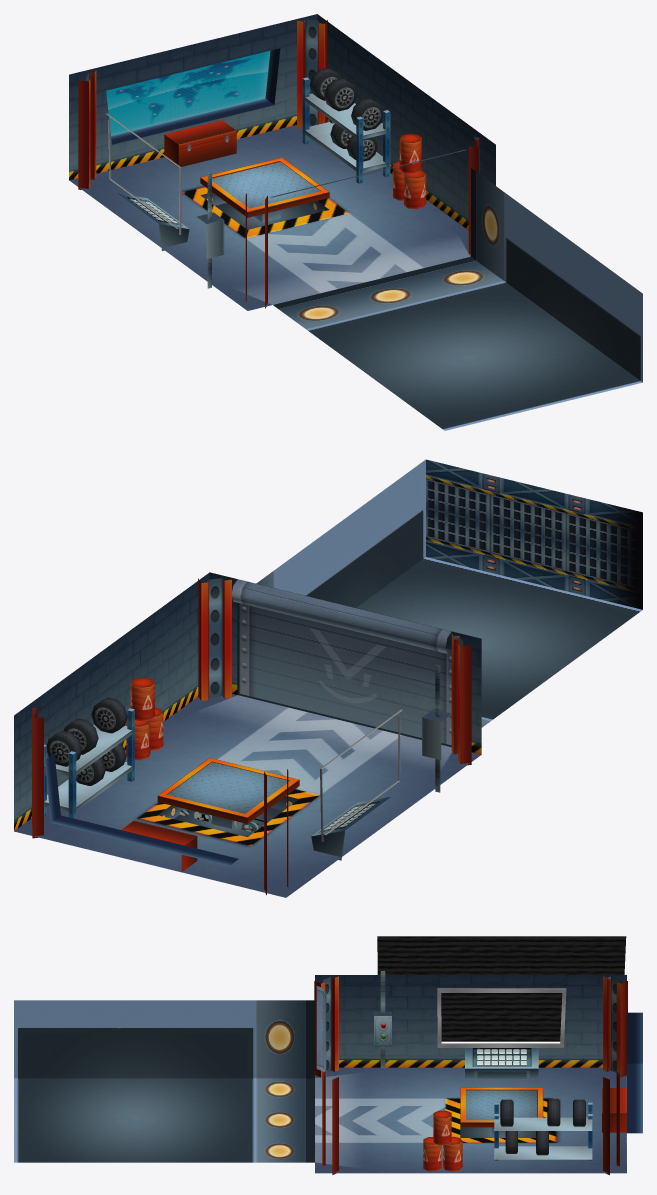
The model's file is FrontEndTest.glb.
The picture shows the model from 3 angles, top to bottom: view 1: azimuth 30°, elevation 25°; view 2: azimuth 150°, elevation 25°; view 3: azimuth 270°, elevation 25°; orthographic projection. The views are drawn at different scales.
Parts seen in each view (by area): view 1: Plane, Lift, tire_rack, toolbox, beam3, beam2, computer, Cube_001, barrel, front_wheel_003, barrel2, front_wheel_001 (+1 smaller); view 2: Plane, rollup_door, Lift, door_turning_thing, beam4, tire_rack, beam1, computer, beam3, Cube_001, toolbox, front_wheel_001 (+4 smaller); view 3: Plane, Plane_001, Lift, tire_rack, beam2, computer, beam1, beam3, beam4, Cube_001, door_turning_thing, toolbox (+6 smaller).
Part boxes in pixels (box(x1,y1,x2,y2)): Plane: box(69, 14, 642, 430); Lift: box(200, 157, 329, 222); tire_rack: box(302, 77, 390, 183); toolbox: box(164, 120, 236, 167); beam3: box(297, 19, 327, 128); beam2: box(78, 70, 96, 189); computer: box(117, 193, 189, 251); Cube_001: box(197, 171, 224, 288); barrel: box(399, 134, 421, 173); front_wheel_003: box(324, 78, 357, 111); barrel2: box(404, 170, 426, 209); front_wheel_001: box(351, 98, 383, 130); Plane: box(14, 459, 642, 897); rollup_door: box(239, 603, 451, 745); Lift: box(157, 757, 299, 828); door_turning_thing: box(231, 579, 451, 653); beam4: box(198, 578, 231, 700); tire_rack: box(44, 708, 134, 818); beam1: box(451, 633, 471, 765); computer: box(311, 797, 390, 860); beam3: box(32, 707, 43, 838); Cube_001: box(422, 664, 452, 792); toolbox: box(121, 820, 197, 871); front_wheel_001: box(91, 697, 127, 733); Plane: box(14, 975, 642, 1173); Plane_001: box(377, 936, 626, 1041); Lift: box(460, 1087, 543, 1137); tire_rack: box(494, 1102, 592, 1160); beam2: box(603, 976, 627, 1077); computer: box(465, 1048, 538, 1078); beam1: box(314, 976, 338, 1077); beam3: box(603, 1071, 619, 1175); beam4: box(322, 1071, 338, 1174); Cube_001: box(374, 971, 391, 1068); door_turning_thing: box(316, 986, 326, 1076); toolbox: box(602, 1088, 626, 1132).
Bounding box in the file's own units: 24.22 × 12.4 × 49.55.
Materials: 30 (28 with a texture image).
